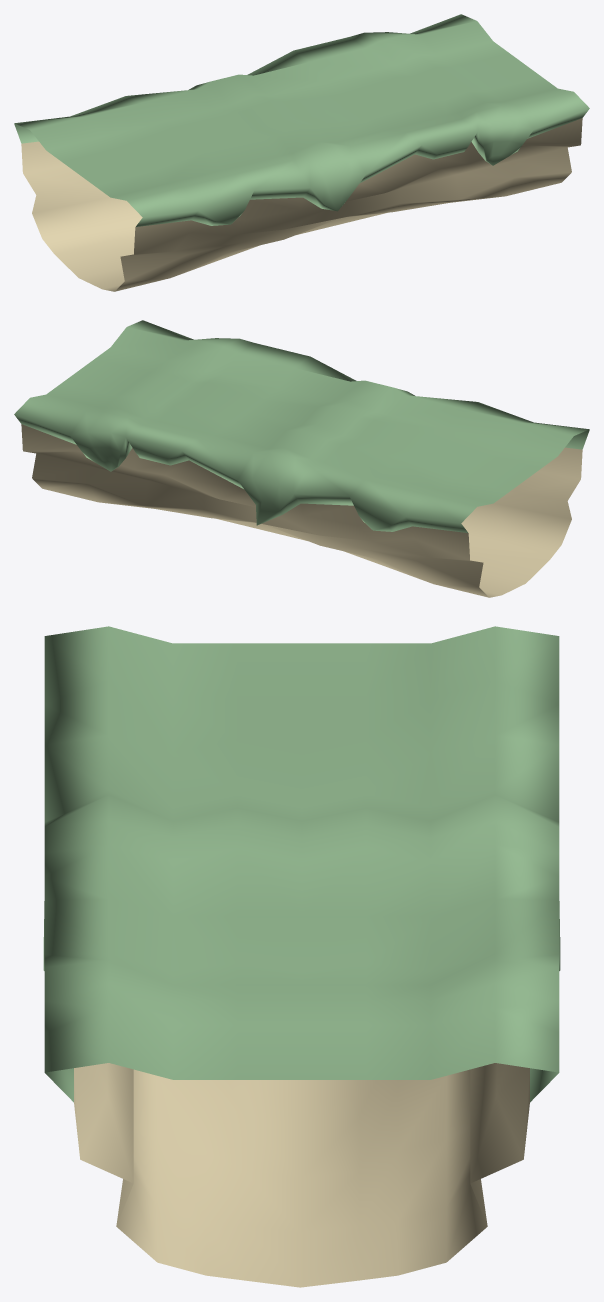
Rendered from Grass_Platform_middle.fbx.
3 renders of one model, top to bottom at view 1: azimuth 30°, elevation 25°; view 2: azimuth 150°, elevation 25°; view 3: azimuth 270°, elevation 25°, orthographic. The views are drawn at different scales.
Visible parts, largest first — view 1: Cube; view 2: Cube; view 3: Cube.
Part boxes in pixels (x1,y1,x2,y2): Cube: (14, 14, 589, 291); Cube: (14, 320, 589, 597); Cube: (43, 626, 560, 1287).
Size of the model in its own units: 4 by 1 by 2.
